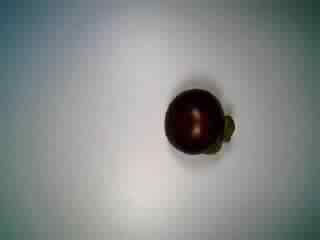mangosteen: (161, 83, 236, 158)
